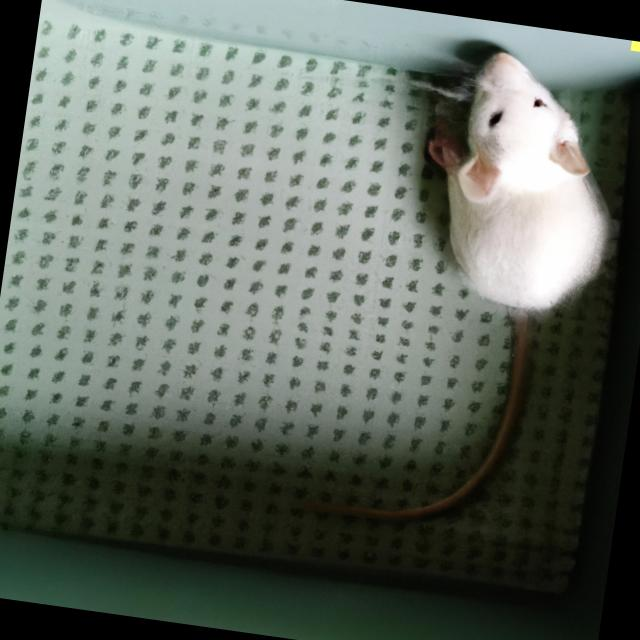rodents: (400, 32, 640, 341)
